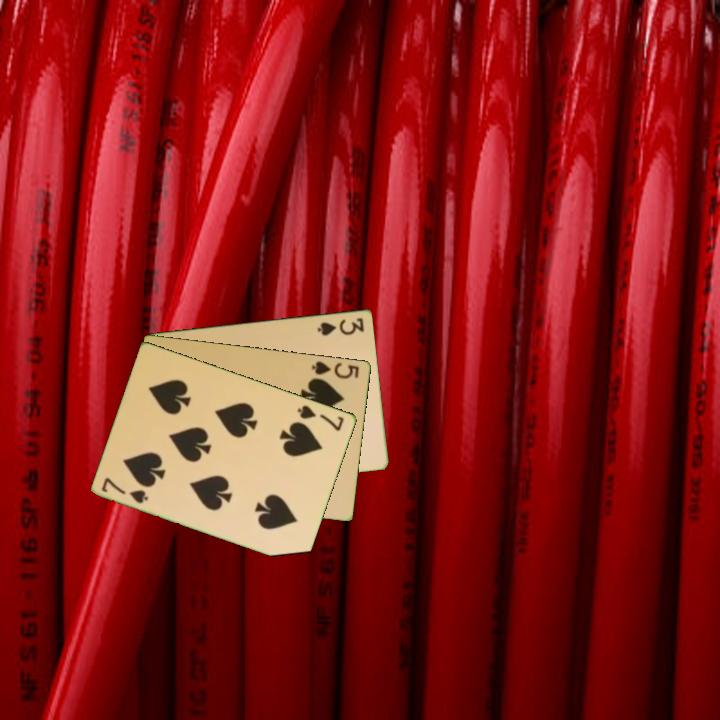3s: (314, 314, 367, 338)
5s: (308, 357, 362, 381)
7s: (294, 401, 347, 434), (98, 474, 152, 506)
